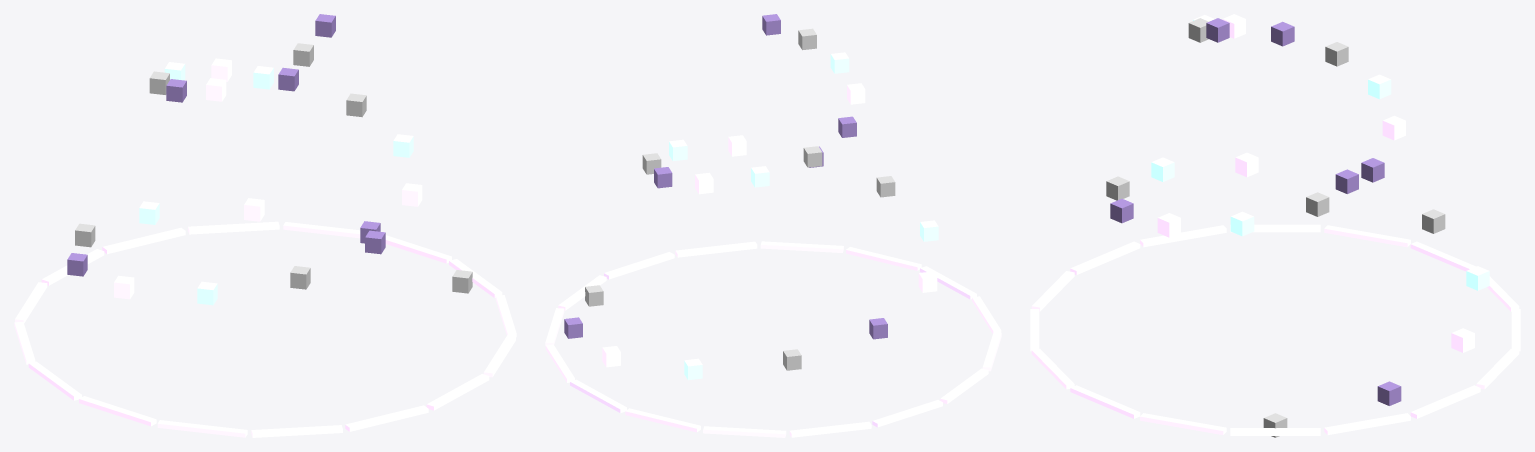
Rendered from FXStarVortex.fbx.
3 views of the same model, side by side, from view 1: azimuth 30°, elevation 25°; view 2: azimuth 150°, elevation 25°; view 3: azimuth 270°, elevation 25° (orthographic). The views are drawn at different scales.
Parts seen in each view (by area): view 1: FX Star Vortex_body_33, FX Star Vortex_body_25, FX Star Vortex_body_32, FX Star Vortex_body_34, FX Star Vortex_body_26, FX Star Vortex_body_31, FX Star Vortex_body_24, FX Star Vortex_body_35, FX Star Vortex_body_23, FX Star Vortex_body_30, FX Star Vortex_body_22, FX Star Vortex_body_36 (+1 smaller); view 2: FX Star Vortex_body_27, FX Star Vortex_body_35, FX Star Vortex_body_36, FX Star Vortex_body_28, FX Star Vortex_body_26, FX Star Vortex_body_34, FX Star Vortex_body_29, FX Star Vortex_body_37, FX Star Vortex_body_25, FX Star Vortex_body_30, FX Star Vortex_body_33; view 3: FX Star Vortex_body_29, FX Star Vortex_body_23, FX Star Vortex_body_37, FX Star Vortex_body_31, FX Star Vortex_body_22, FX Star Vortex_body_24, FX Star Vortex_body_36, FX Star Vortex_body_32, FX Star Vortex_body_30, FX Star Vortex_body_28, FX Star Vortex_body_25, FX Star Vortex_body_35 (+19 smaller).
Boxes of the visible parts, x1,y1,x2,y2 form: FX Star Vortex_body_33: [251, 425, 342, 437]; FX Star Vortex_body_25: [188, 221, 279, 234]; FX Star Vortex_body_32: [157, 420, 247, 437]; FX Star Vortex_body_34: [345, 405, 428, 431]; FX Star Vortex_body_26: [102, 227, 185, 254]; FX Star Vortex_body_31: [79, 396, 156, 426]; FX Star Vortex_body_24: [283, 222, 360, 238]; FX Star Vortex_body_35: [426, 374, 489, 410]; FX Star Vortex_body_23: [385, 235, 451, 263]; FX Star Vortex_body_30: [28, 361, 81, 400]; FX Star Vortex_body_22: [449, 259, 502, 297]; FX Star Vortex_body_36: [483, 335, 515, 377]; FX Star Vortex_body_27: [703, 426, 786, 437]; FX Star Vortex_body_35: [760, 241, 843, 252]; FX Star Vortex_body_36: [675, 241, 757, 257]; FX Star Vortex_body_28: [789, 421, 871, 437]; FX Star Vortex_body_26: [625, 408, 700, 432]; FX Star Vortex_body_34: [846, 247, 921, 270]; FX Star Vortex_body_29: [872, 400, 942, 427]; FX Star Vortex_body_37: [604, 252, 674, 279]; FX Star Vortex_body_25: [570, 379, 626, 412]; FX Star Vortex_body_30: [940, 368, 988, 403]; FX Star Vortex_body_33: [920, 266, 976, 299]; FX Star Vortex_body_29: [1324, 225, 1410, 247]; FX Star Vortex_body_23: [1324, 413, 1410, 434]; FX Star Vortex_body_37: [1140, 413, 1226, 434]; FX Star Vortex_body_31: [1140, 225, 1226, 247]; FX Star Vortex_body_22: [1230, 428, 1320, 435]; FX Star Vortex_body_24: [1410, 385, 1480, 418]; FX Star Vortex_body_36: [1070, 385, 1140, 418]; FX Star Vortex_body_32: [1070, 241, 1140, 274]; FX Star Vortex_body_30: [1230, 224, 1320, 232]; FX Star Vortex_body_28: [1410, 241, 1475, 271]; FX Star Vortex_body_25: [1476, 349, 1519, 389]; FX Star Vortex_body_35: [1031, 349, 1074, 389].
Bounding box in the file's own units: 652 × 484 × 652.
